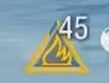1fire: (21, 42, 91, 75)
